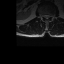CCS_normal: (46, 13, 47, 20)
LFS_stenosis: (49, 13, 51, 18)
LLS_normal: (47, 13, 49, 19)
RFS_normal: (41, 13, 43, 18)
RLS_normal: (43, 13, 45, 19)
